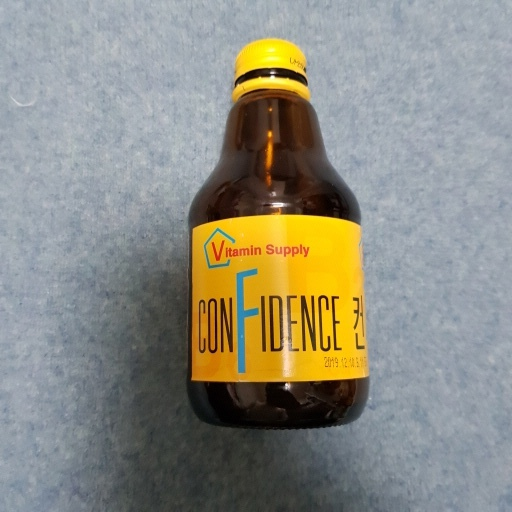Glass_3: (177, 35, 376, 431)
